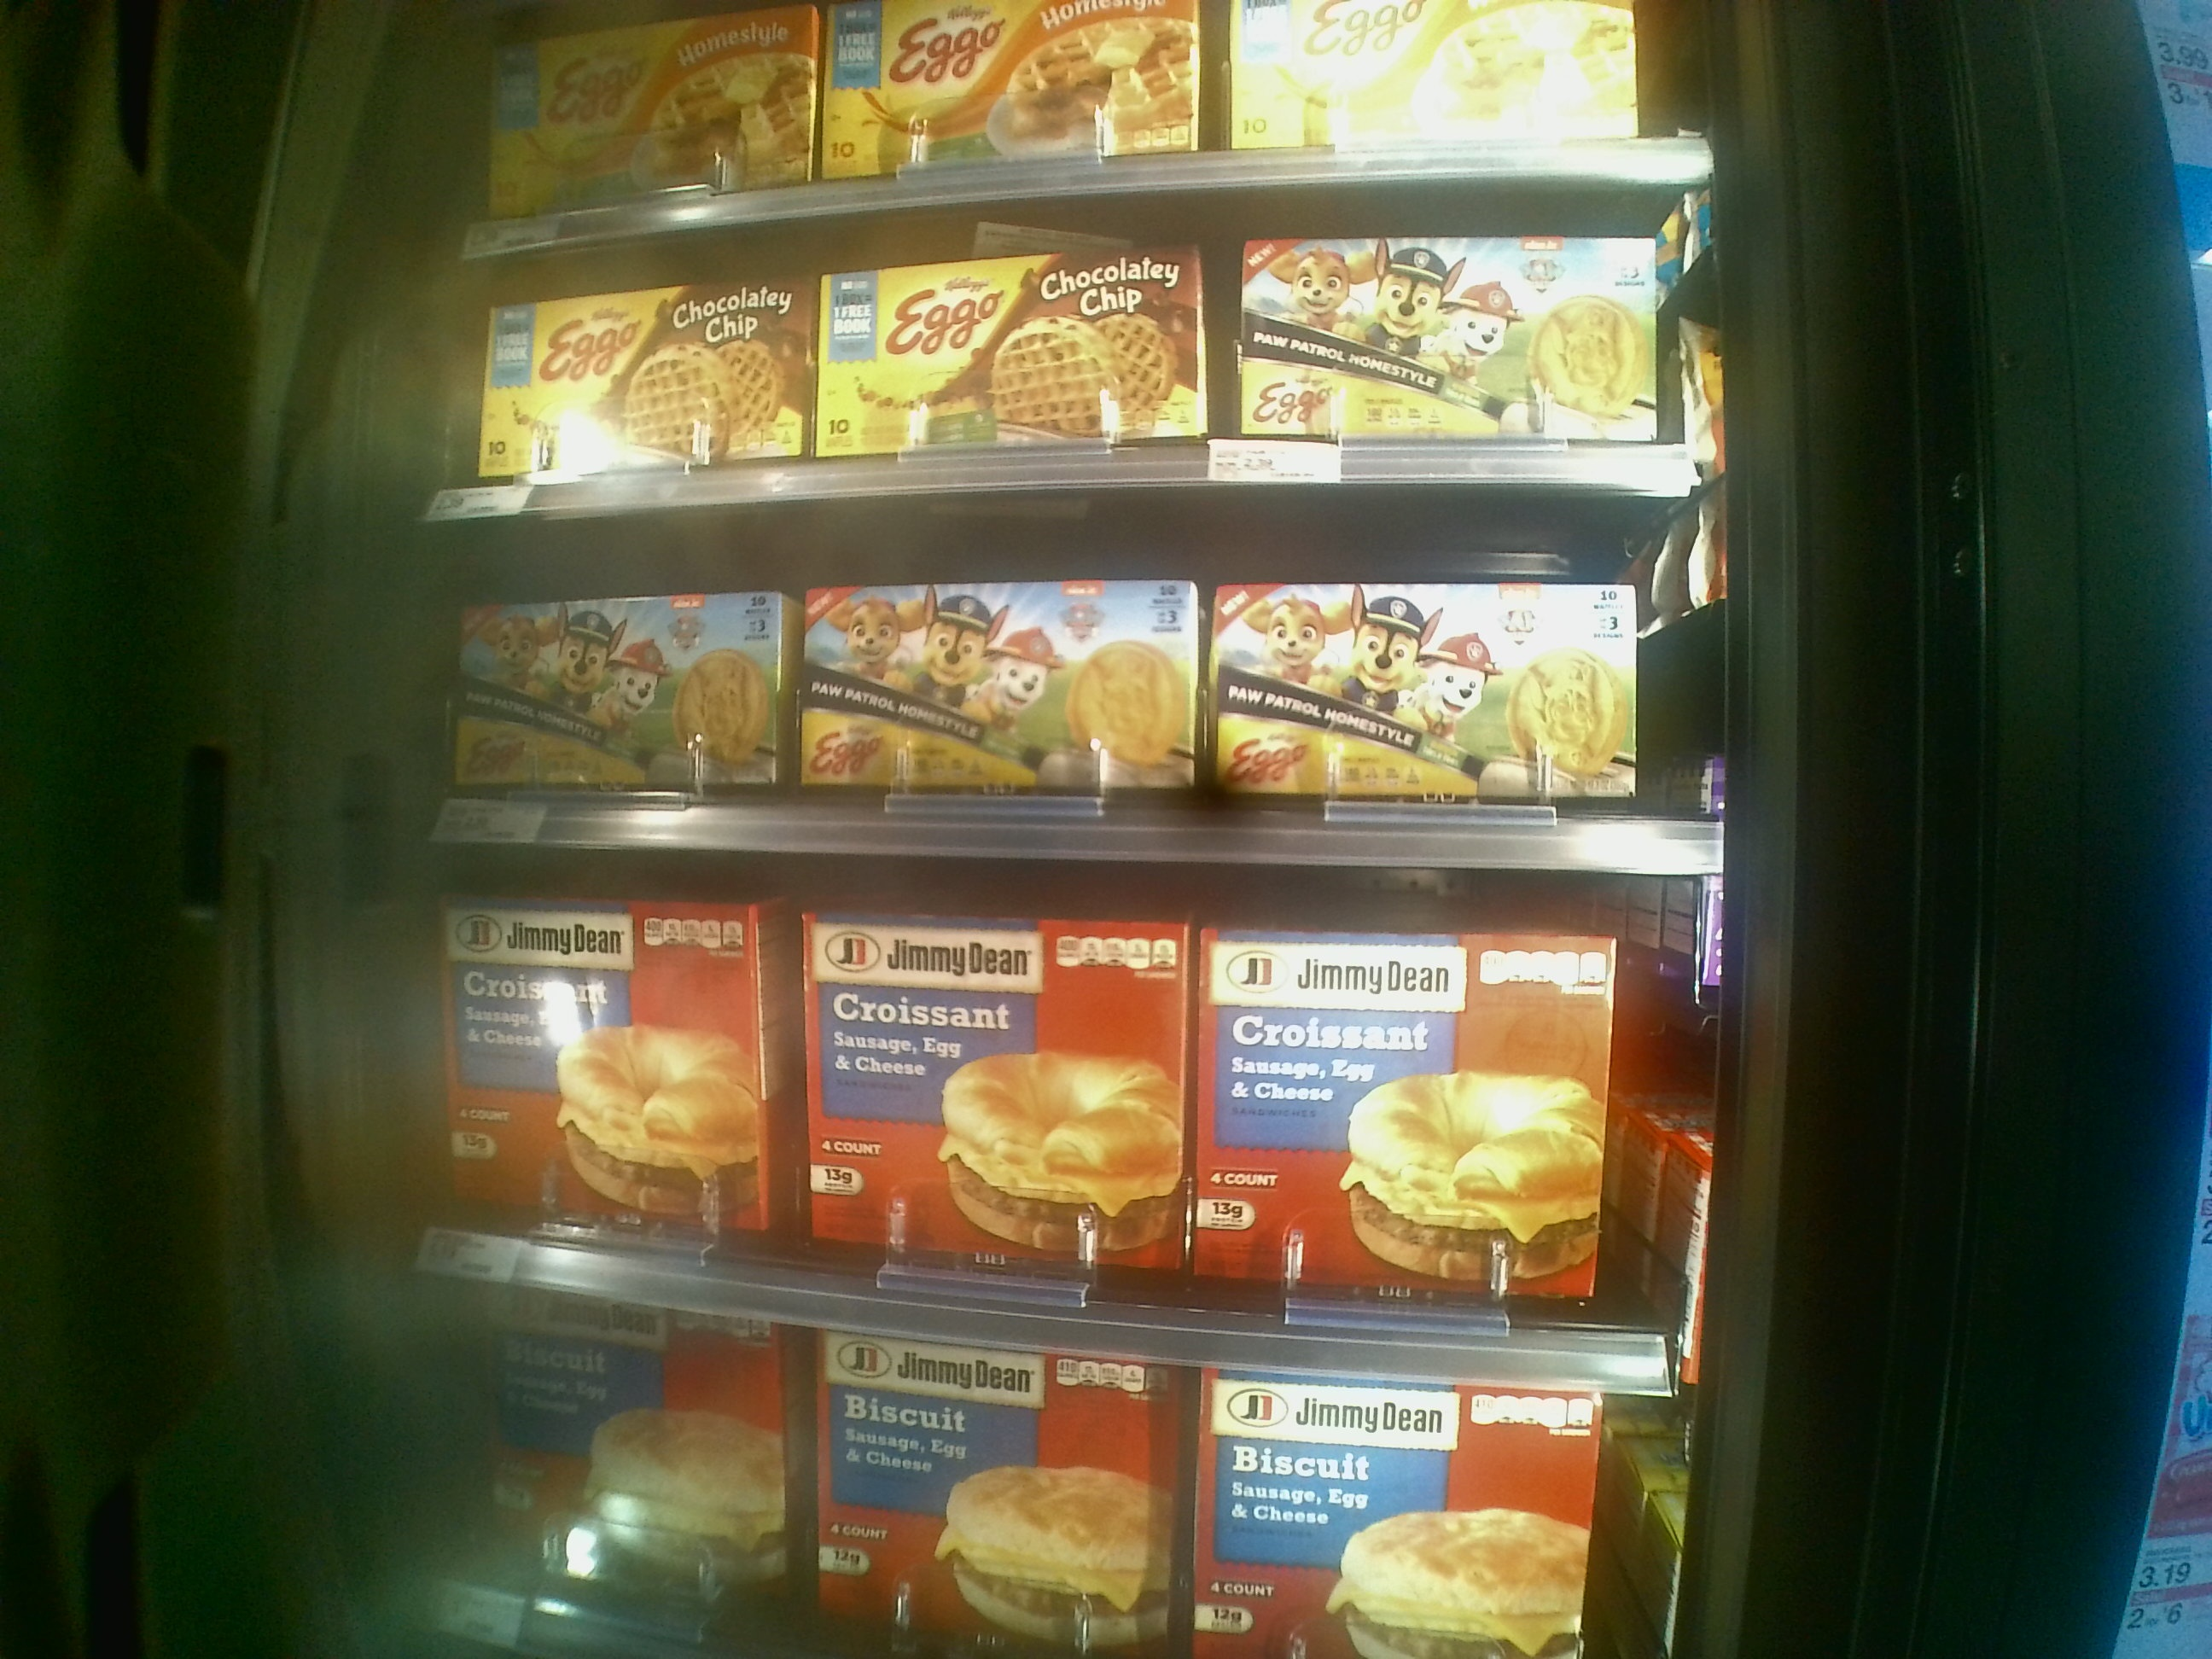shelf: (415, 859, 1712, 1384), (444, 488, 1737, 871), (425, 176, 1707, 523)
